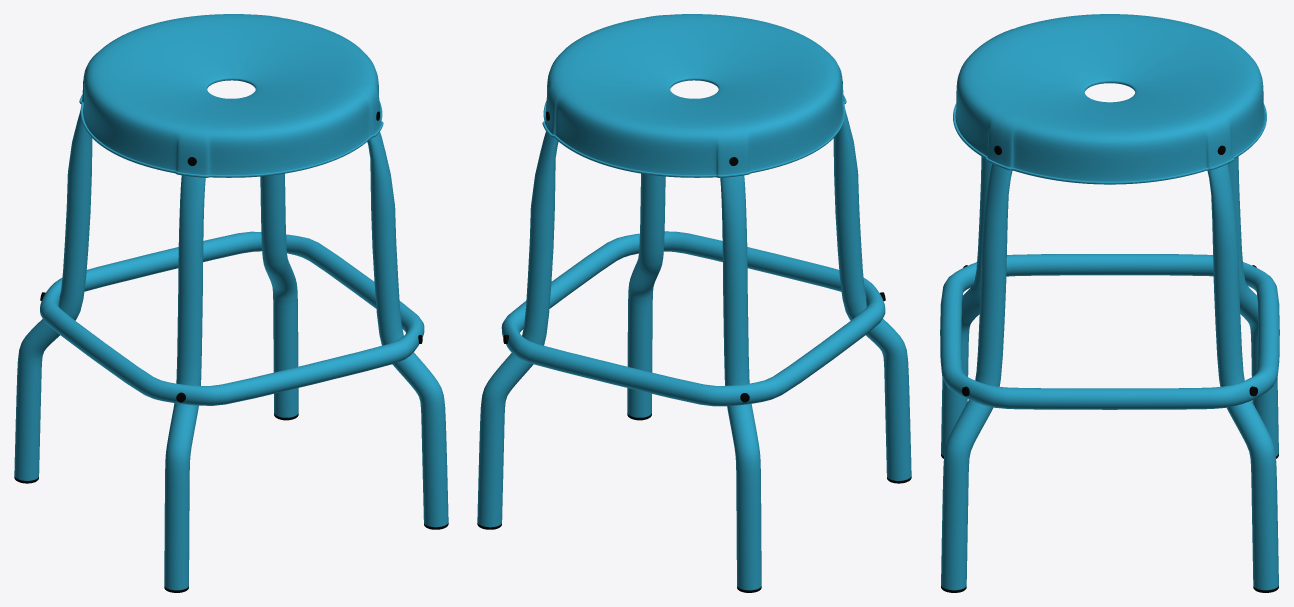
File: chair_60_02.001.fbx
3 renders of one model, left to right at view 1: azimuth 30°, elevation 25°; view 2: azimuth 150°, elevation 25°; view 3: azimuth 270°, elevation 25°, orthographic. The views are drawn at different scales.
Parts seen in each view (by area): view 1: chair_60_02.001; view 2: chair_60_02.001; view 3: chair_60_02.001.
Boxes of the visible parts, x1,y1,x2,y2 form: chair_60_02.001: (14,14,448,592); chair_60_02.001: (477,14,911,592); chair_60_02.001: (940,14,1279,592).
Bounding box in the file's own units: 30.24 × 44.02 × 30.24.
1 material, 1 textured.
